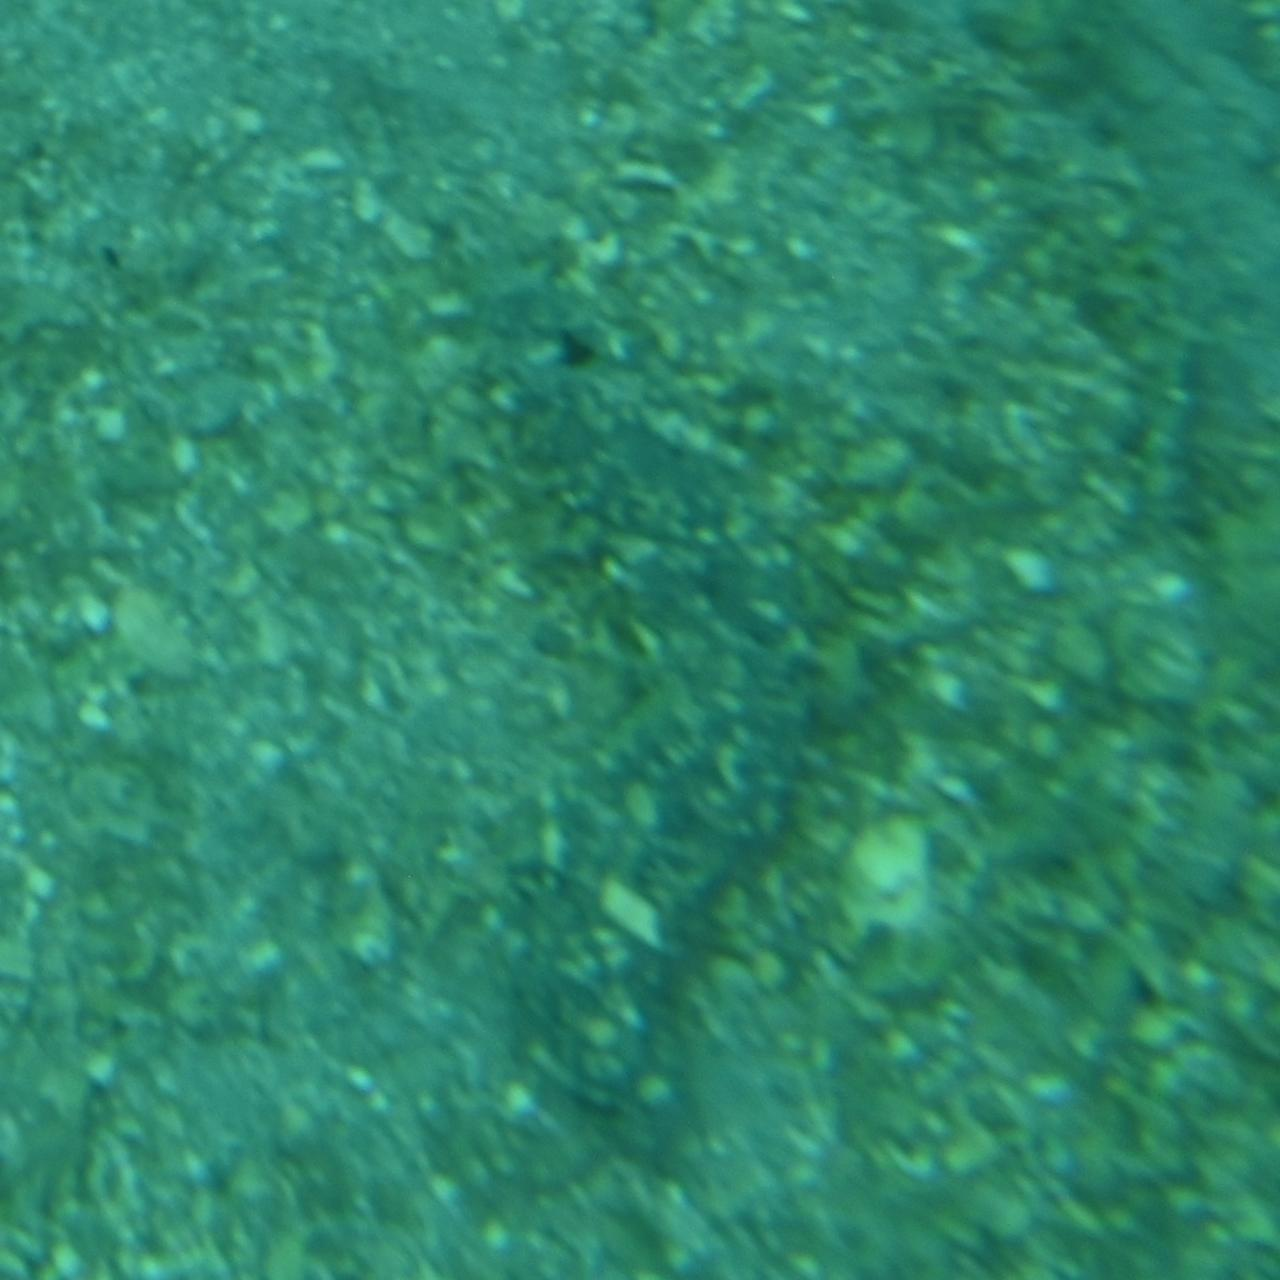Holothuria tubulosa: (454, 286, 826, 1216)
